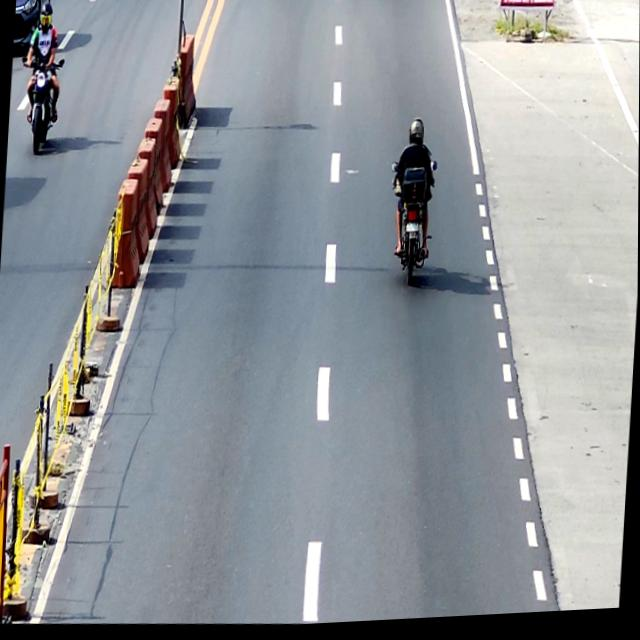Car: (13, 0, 51, 56)
License-Plate: (403, 223, 423, 241)
Motorcycle: (385, 161, 437, 293), (17, 52, 65, 157)
